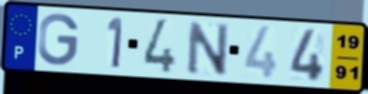1: (105, 16, 125, 71)
4: (141, 17, 179, 76), (242, 24, 280, 81), (288, 27, 326, 84)
G: (36, 12, 82, 68)
N: (186, 19, 231, 77)
